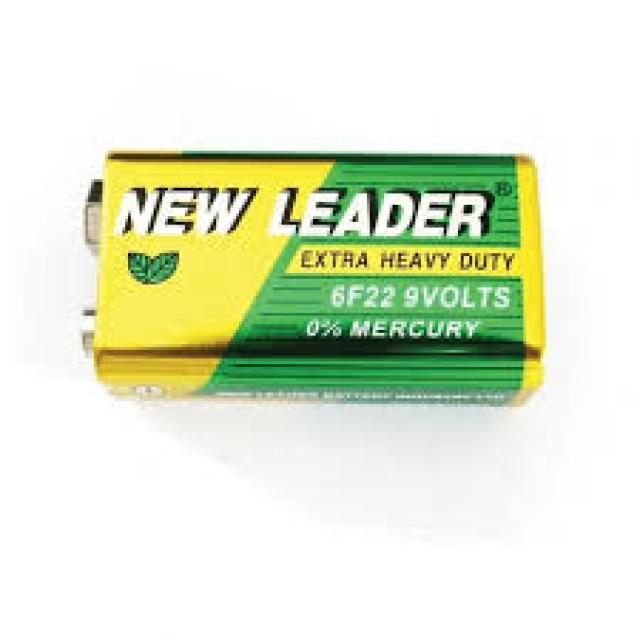Battery: (92, 152, 553, 409)
